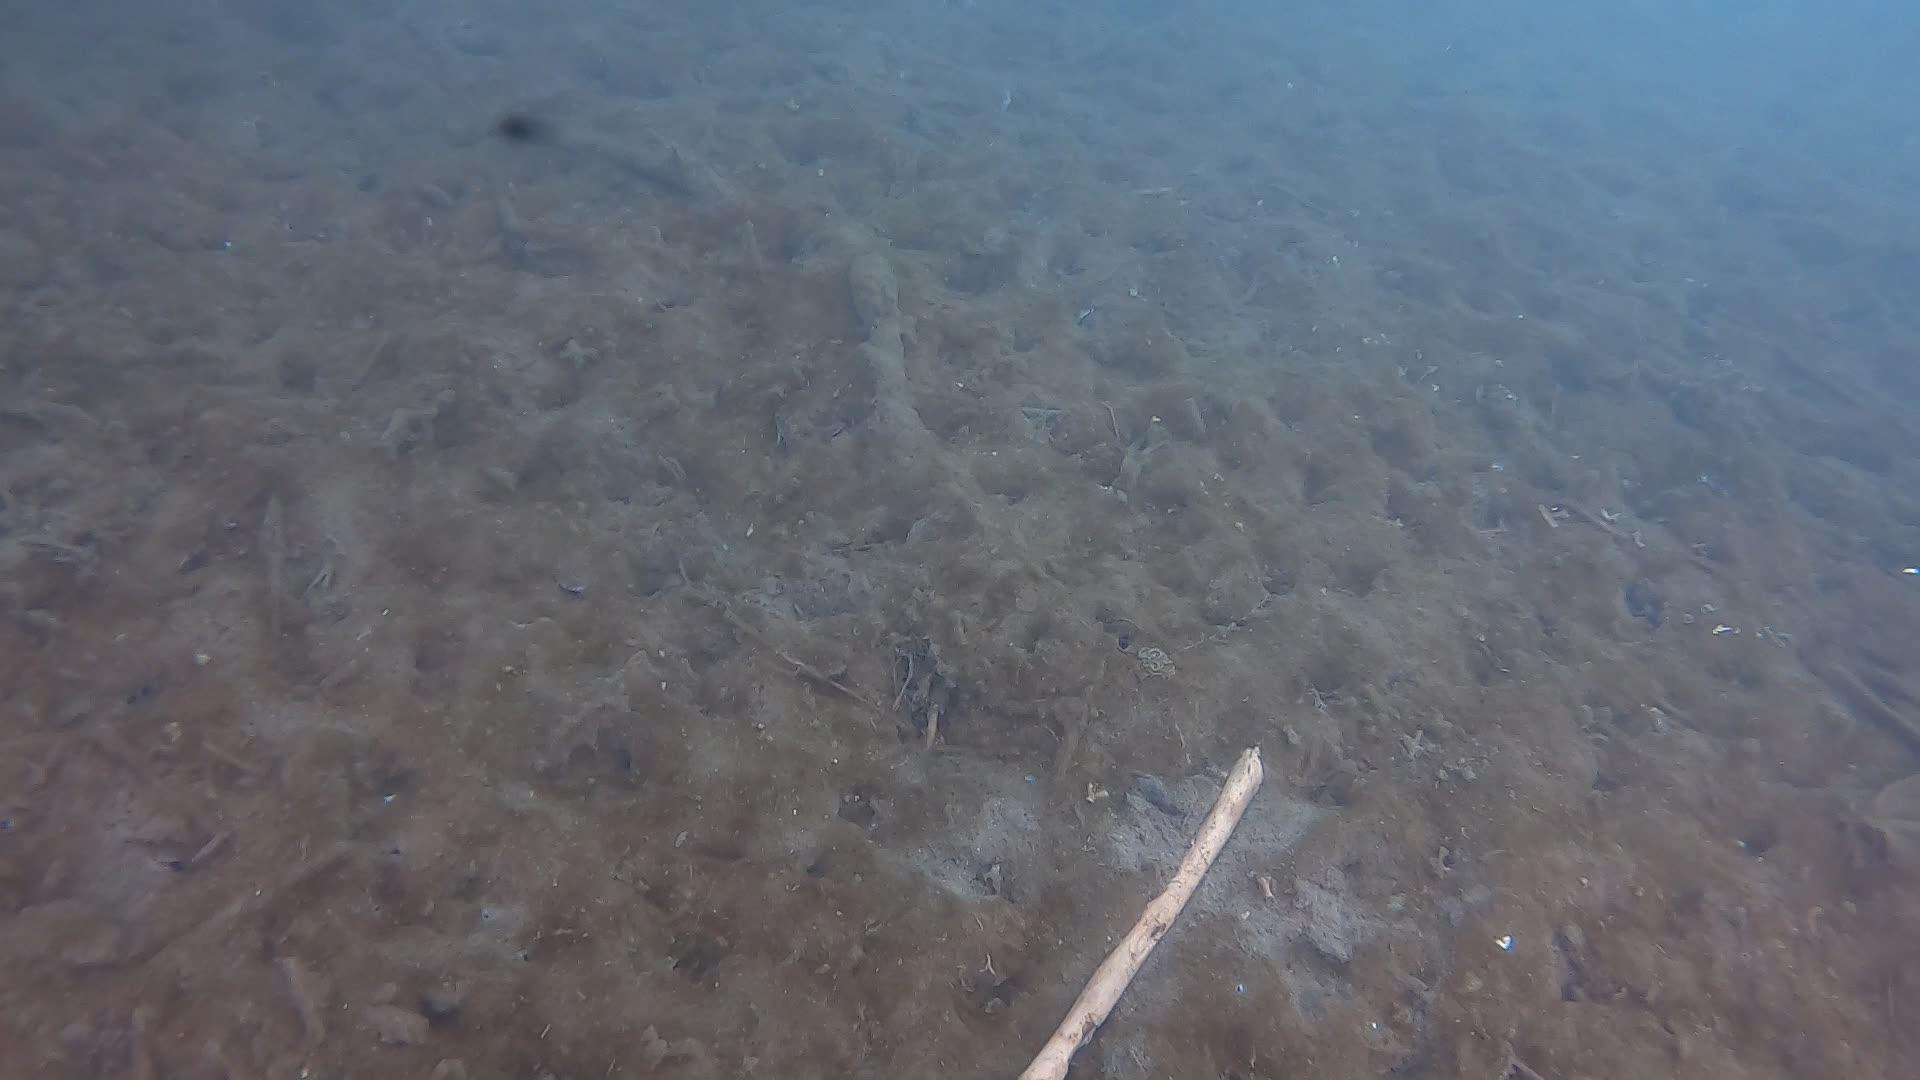wood: (1004, 742, 1263, 1080)
